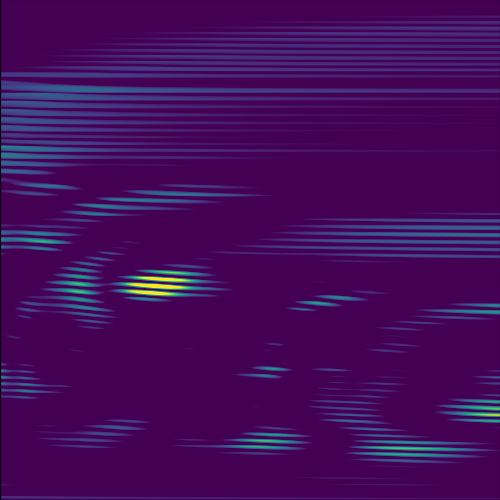semblance: (115, 263, 223, 304)
